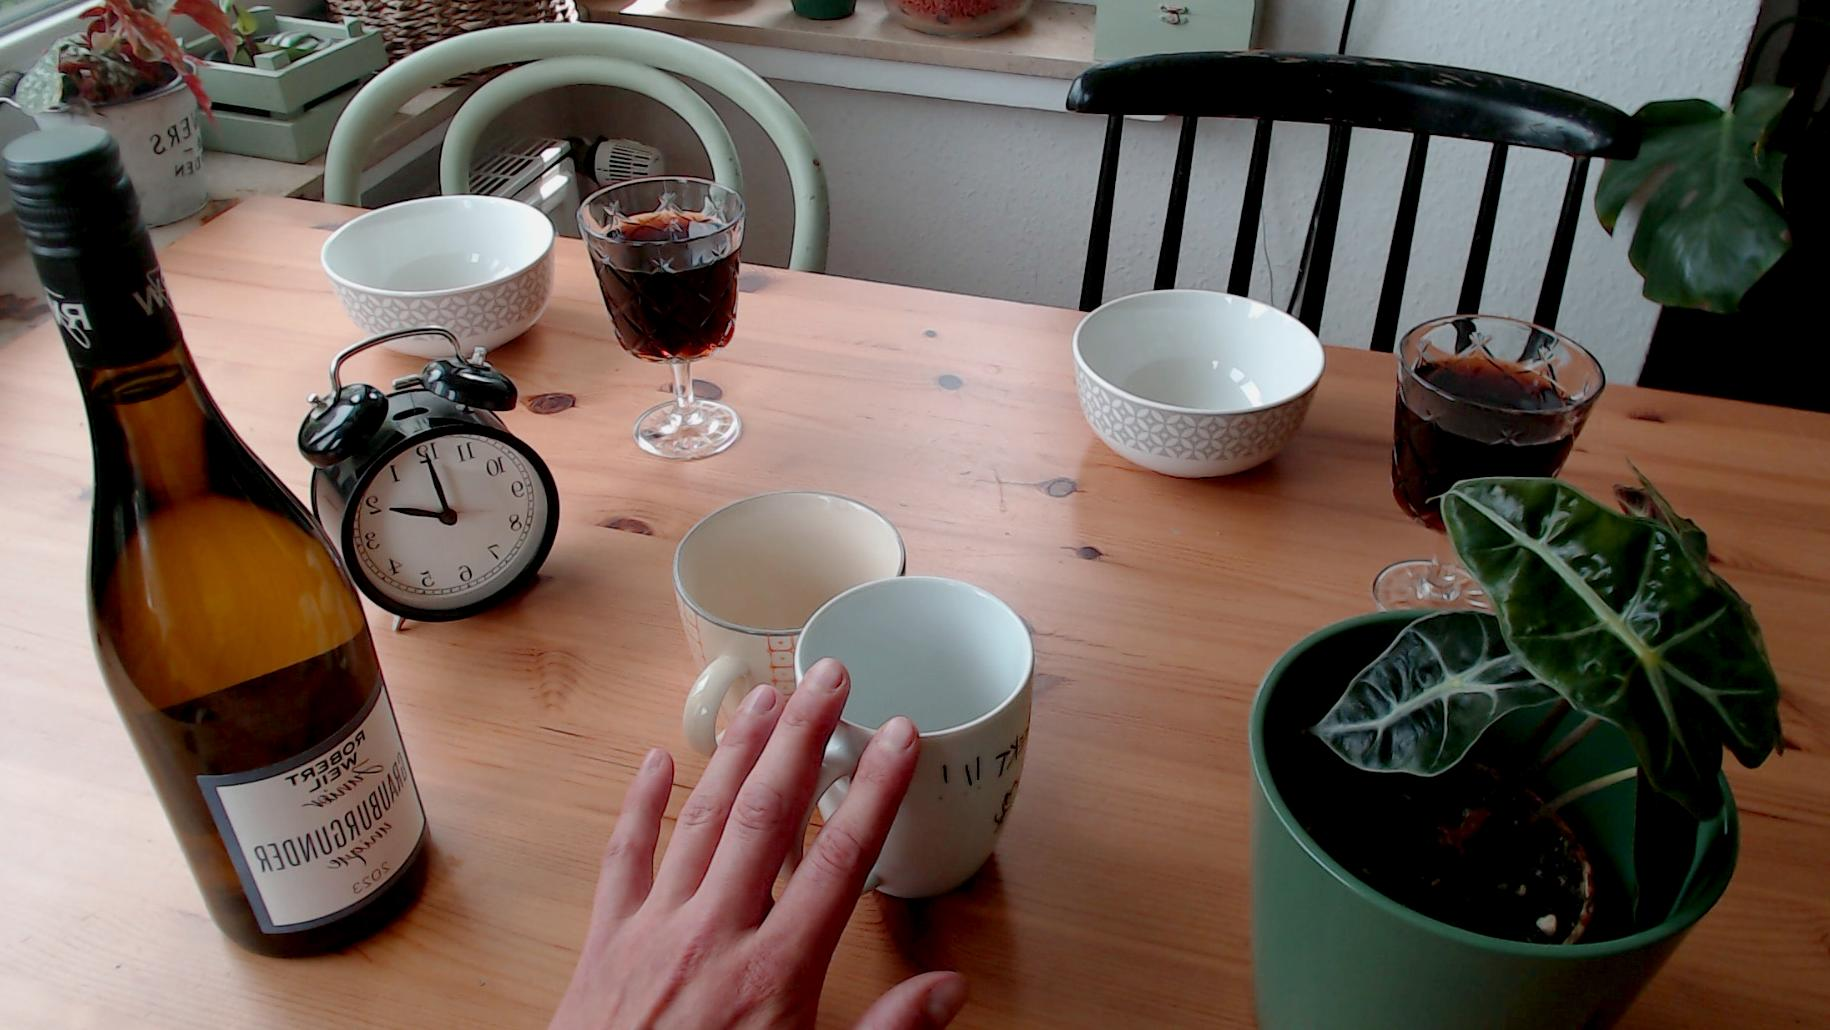bottle: (8, 117, 434, 957)
bowl_close: (1070, 289, 1334, 480)
bowl_far: (319, 191, 557, 355)
clock: (341, 429, 558, 619)
cup_close: (791, 573, 1034, 902)
cup_far: (670, 490, 904, 753)
hand_close: (533, 658, 921, 1030)
potted_plant: (1248, 475, 1781, 1030)
wineglass_close: (1372, 312, 1605, 602)
wineglass_far: (576, 165, 747, 457)
